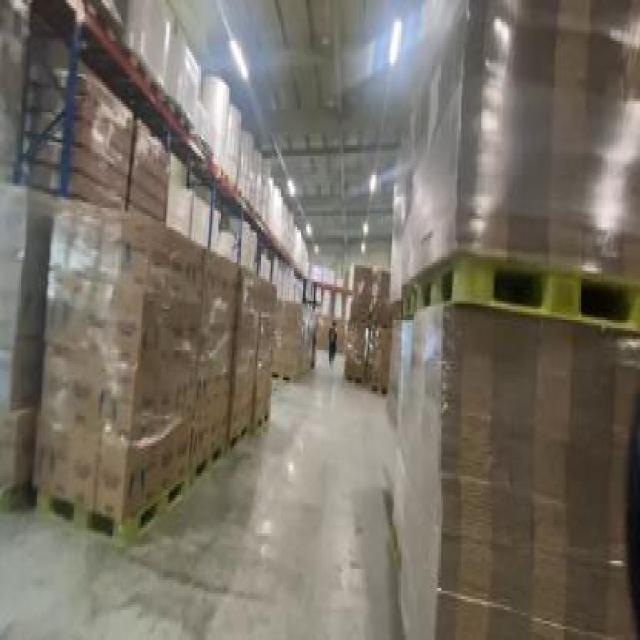box: (384, 301, 638, 634), (371, 3, 638, 317), (40, 208, 272, 520), (1, 164, 56, 525), (25, 60, 132, 222), (120, 0, 201, 131), (340, 268, 392, 402), (125, 120, 169, 238), (263, 298, 319, 380)
person: (326, 314, 337, 374)
white_roll: (220, 99, 255, 205), (271, 194, 311, 274), (168, 172, 209, 246), (211, 214, 260, 274), (249, 153, 274, 238), (260, 260, 311, 301), (208, 77, 229, 172), (314, 284, 351, 314), (308, 260, 346, 282)
